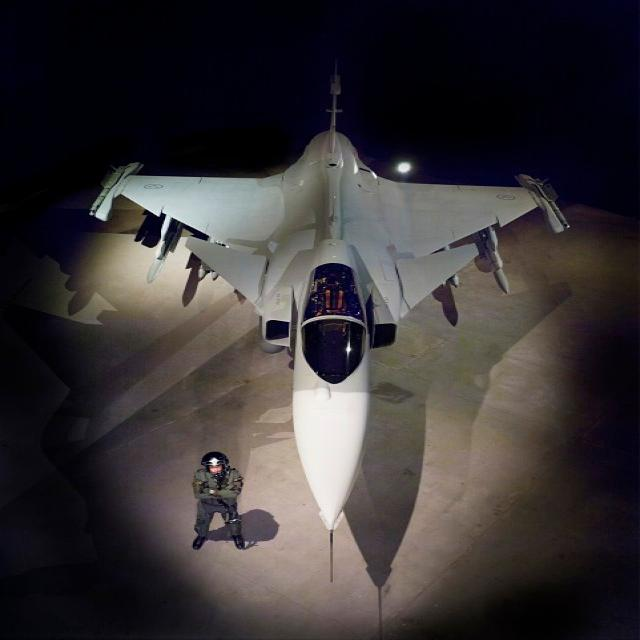MIL_Plane: (88, 58, 571, 584)
